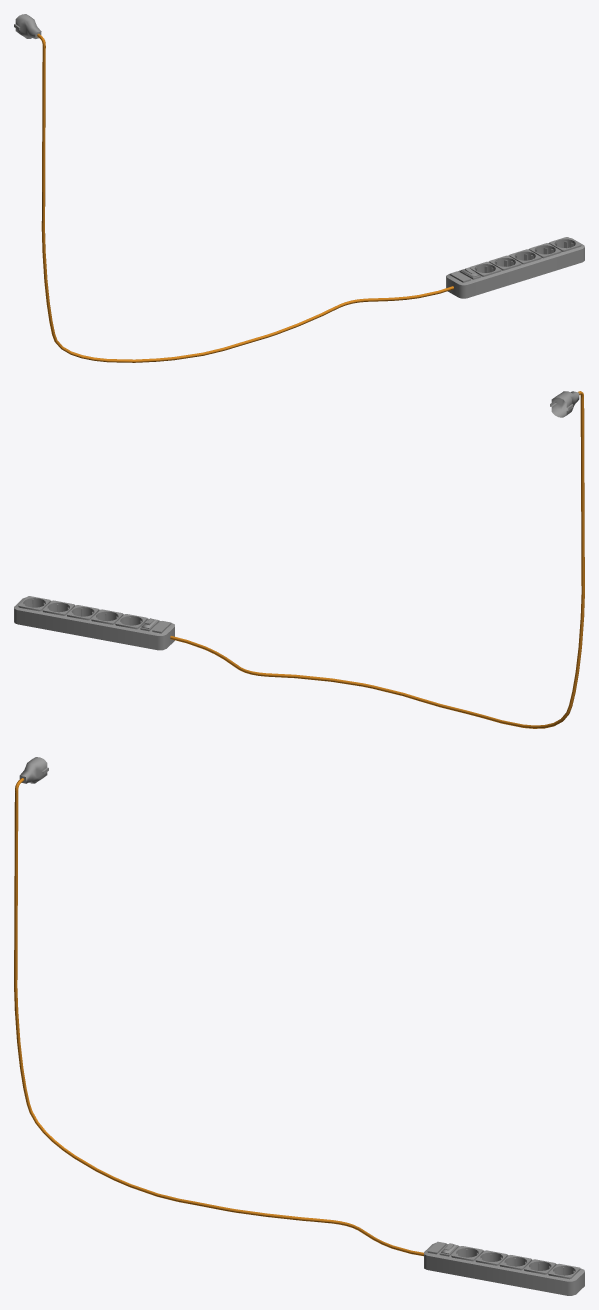
The model's file is SM_NetWorkFilter_01_B.FBX.
3 views of the same model, one above another, from view 1: azimuth 30°, elevation 25°; view 2: azimuth 150°, elevation 25°; view 3: azimuth 330°, elevation 25° (orthographic). The views are drawn at different scales.
Parts seen in each view (by area): view 1: SM_NetWorkFilter_01_B; view 2: SM_NetWorkFilter_01_B; view 3: SM_NetWorkFilter_01_B.
Part boxes in pixels (x1,y1,x2,y2): SM_NetWorkFilter_01_B: [14, 14, 584, 362]; SM_NetWorkFilter_01_B: [14, 391, 584, 728]; SM_NetWorkFilter_01_B: [14, 757, 584, 1295].
Size of what is drawn, in the model's own units: 166 by 104 by 21.52.
